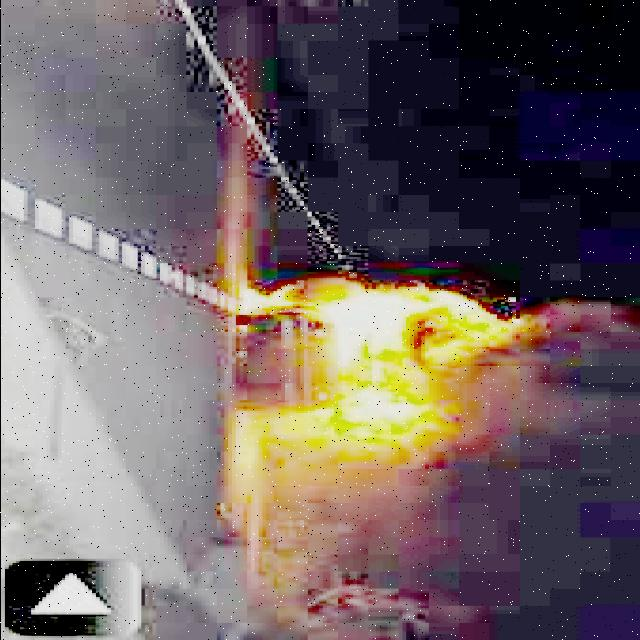api: (232, 267, 501, 455)
